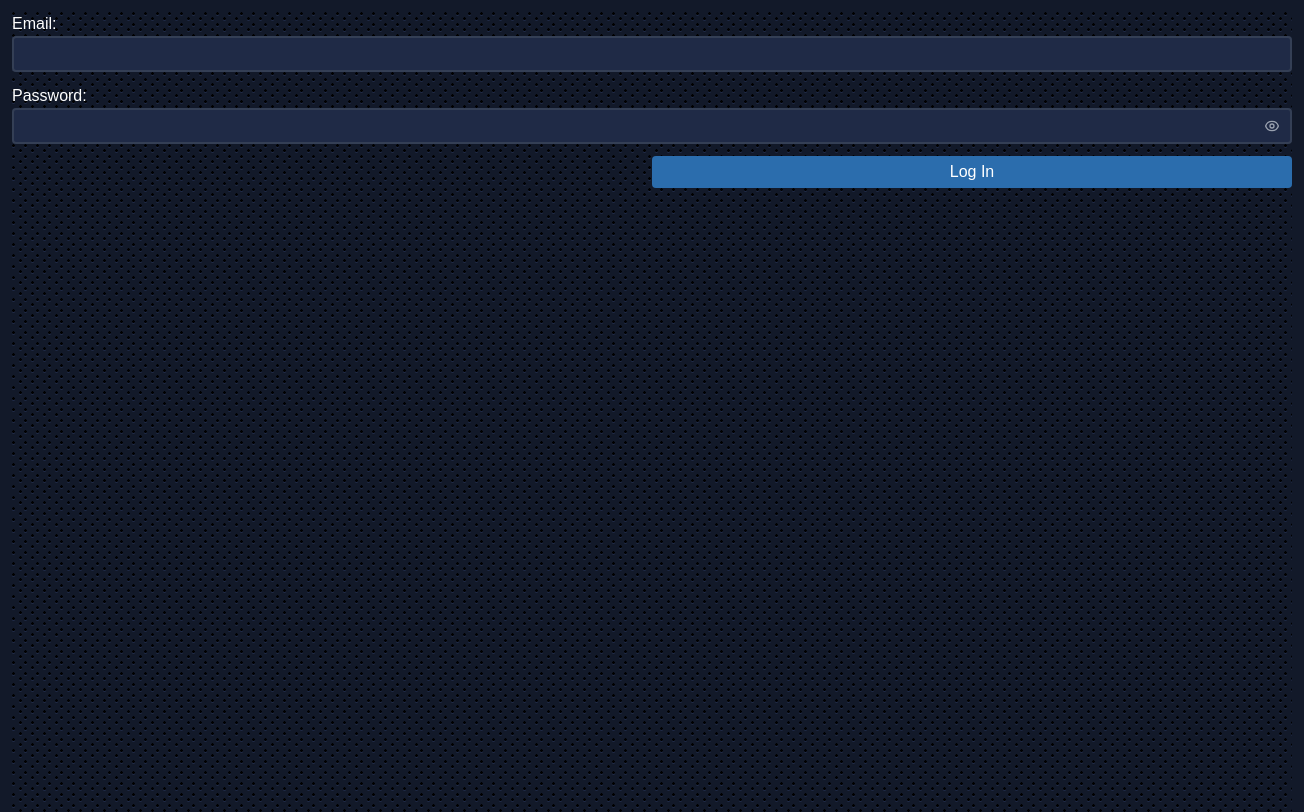
Test: LoginForm › shows email format error if email is invalid
The width and height of the screenshot is (1304, 812).
Type "bademail" into the field labelled "Email:". click: (652, 54)
box: [12,36,1292,72]
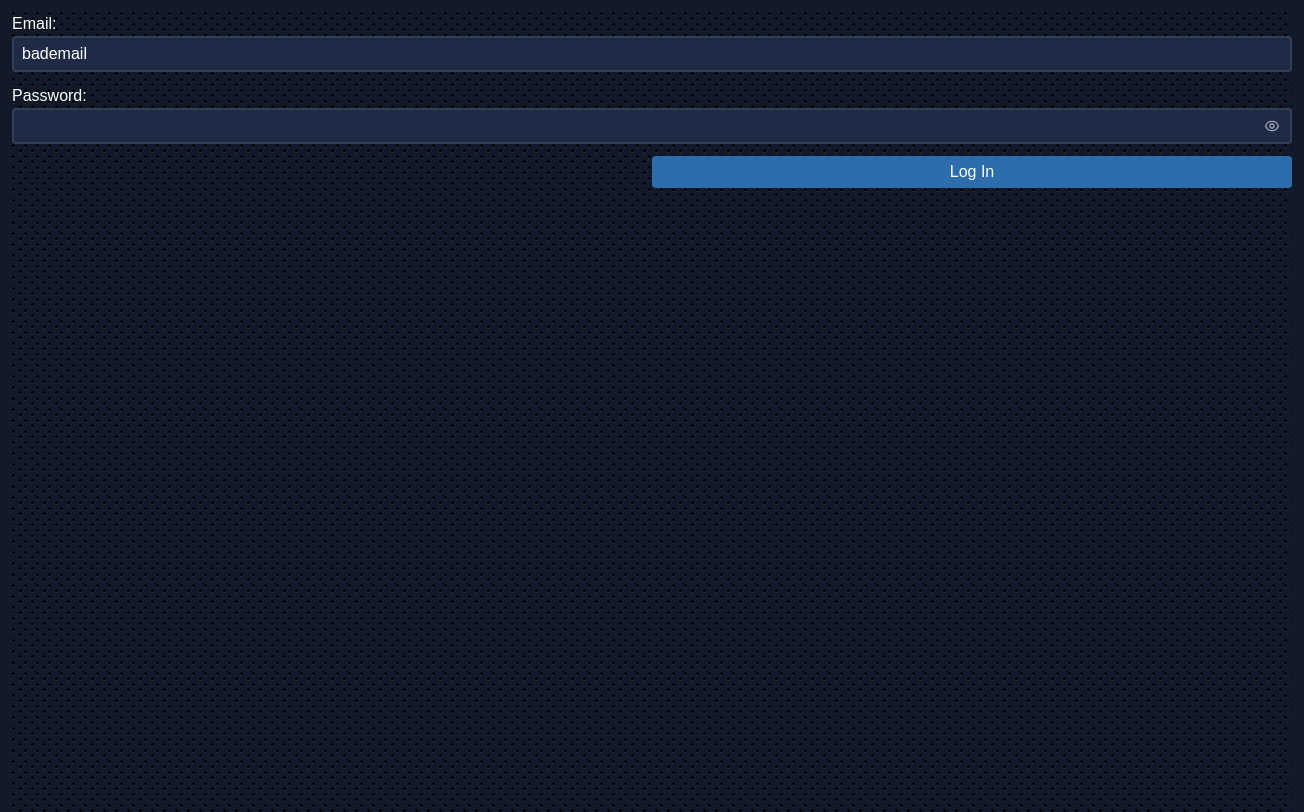
Type "password123" into the password field labelled "Password:". click: (652, 126)
box: [12,108,1292,144]
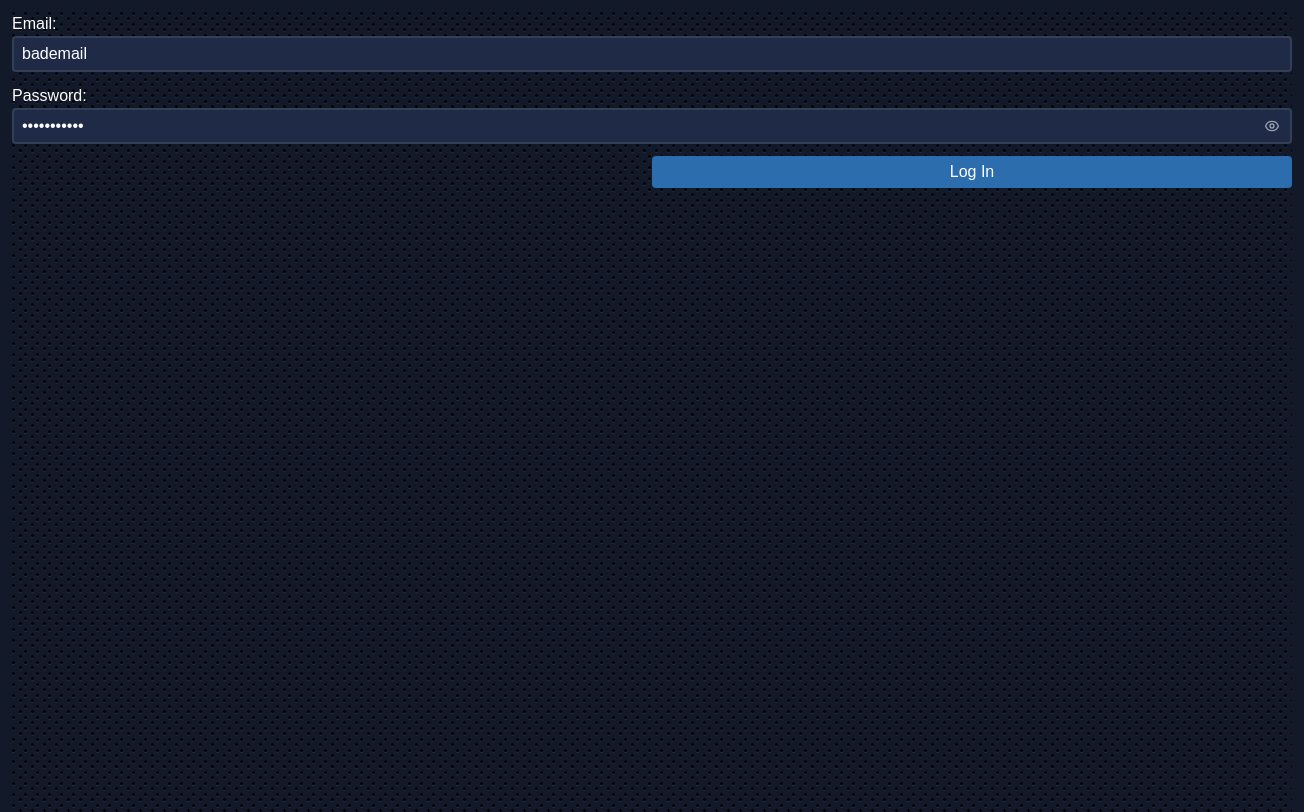
Submit the form named "login-form", box [12,12,1292,188]
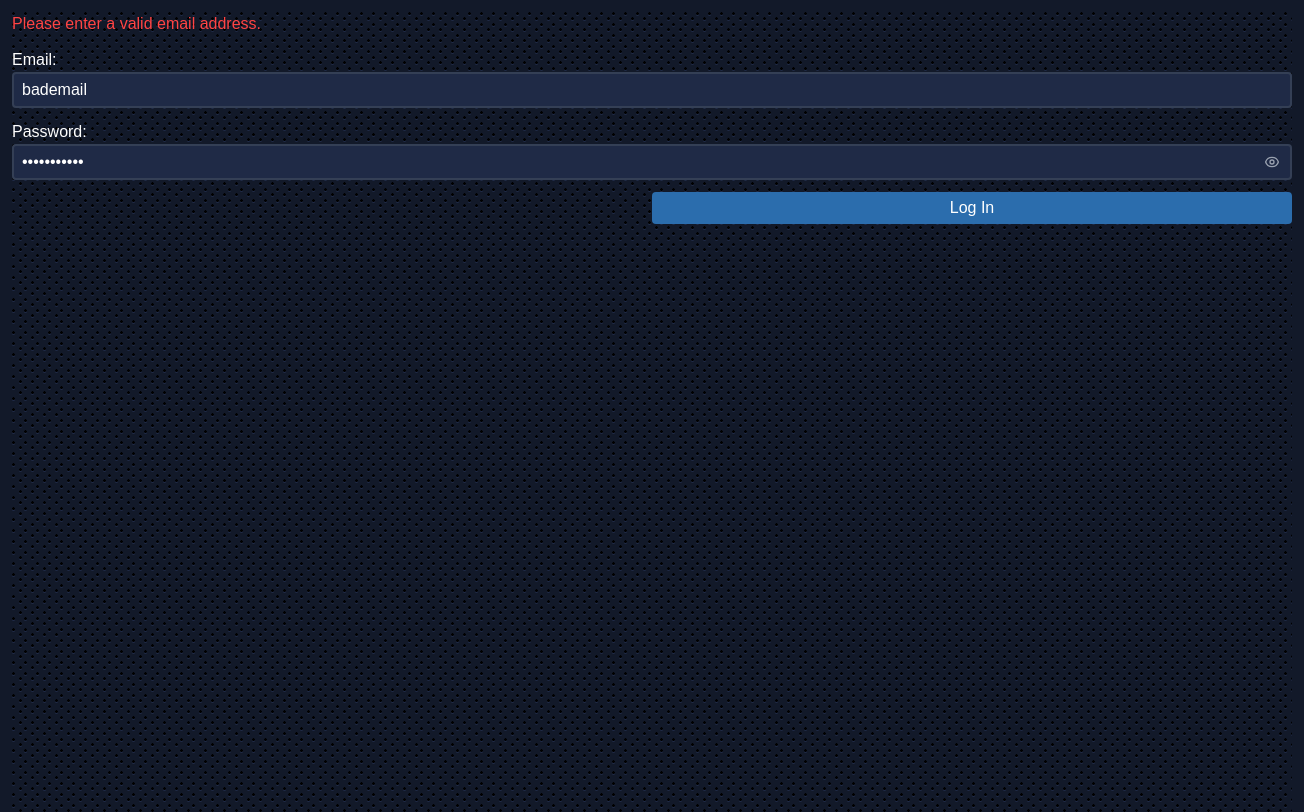
expect the text "Please enter a valid email address." is shown: met, box [12,15,261,32]
